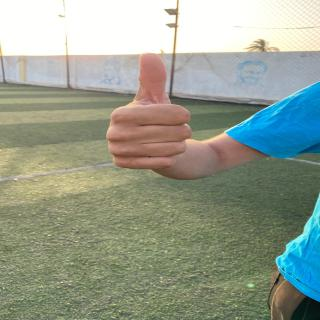ALIF: (98, 45, 213, 183)
